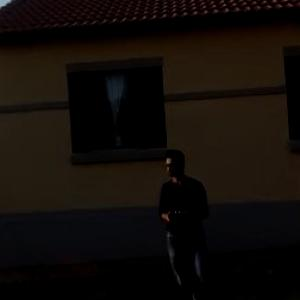follow: (145, 151, 212, 299)
